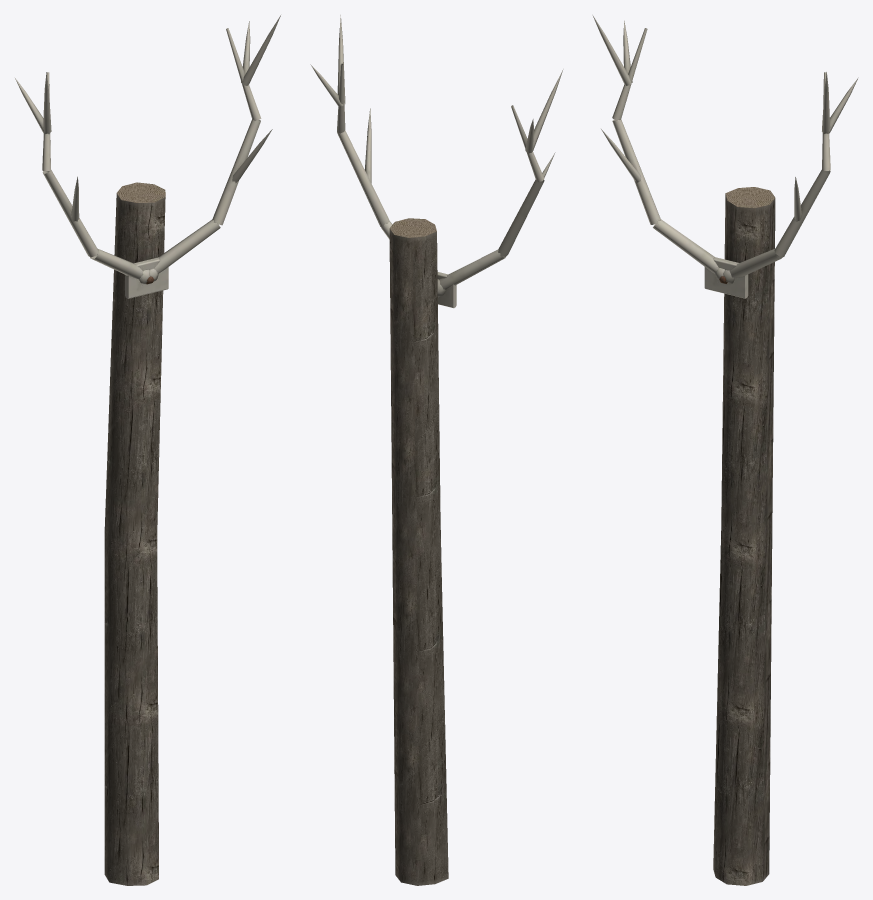
Rendered from antler_post.glb.
The picture shows the model from 3 angles, left to right: view 1: azimuth 30°, elevation 25°; view 2: azimuth 150°, elevation 25°; view 3: azimuth 330°, elevation 25°; orthographic projection. The views are drawn at different scales.
Parts seen in each view (by area): view 1: antler_post; view 2: antler_post; view 3: antler_post.
Part boxes in pixels (<box>): antler_post: <box>15,15,280,885</box>; antler_post: <box>310,15,563,885</box>; antler_post: <box>592,15,858,885</box>.
Bounding box in the file's own units: 0.76 × 2.65 × 0.3296.
1 material, 1 textured.
